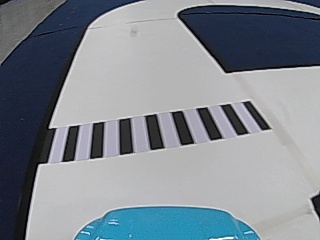CrossWalk: (47, 99, 267, 164)
